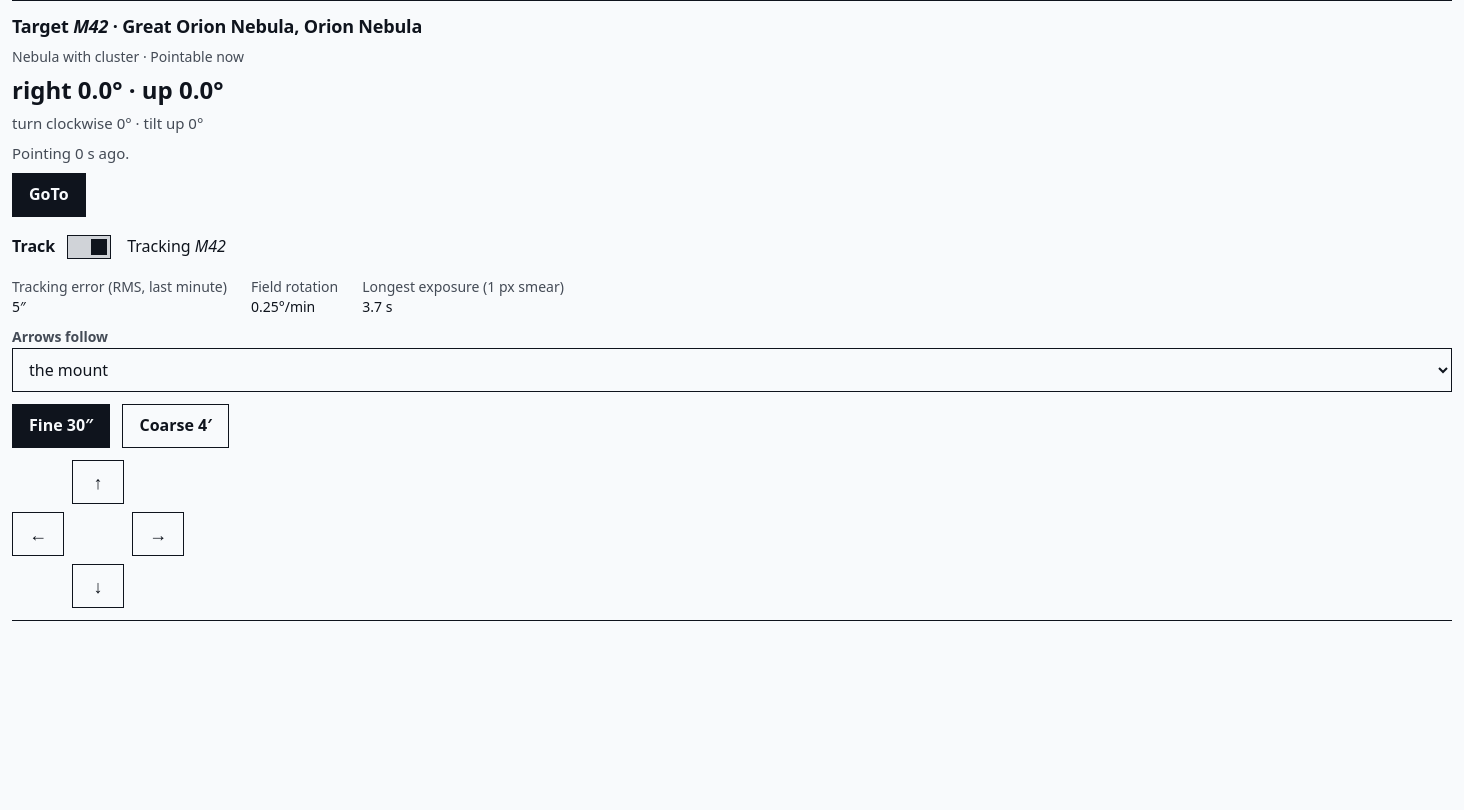
the Nudge block in the guidance block › holds every arrow until the answer, then shows the refusal in the block's alert (US5-S2)
Later steps or results of the test are not shown.
What coordinates should you click on to do the following:
click the button "↑"
I would click on:
 (98, 482)
Its box is [72, 460, 124, 504].
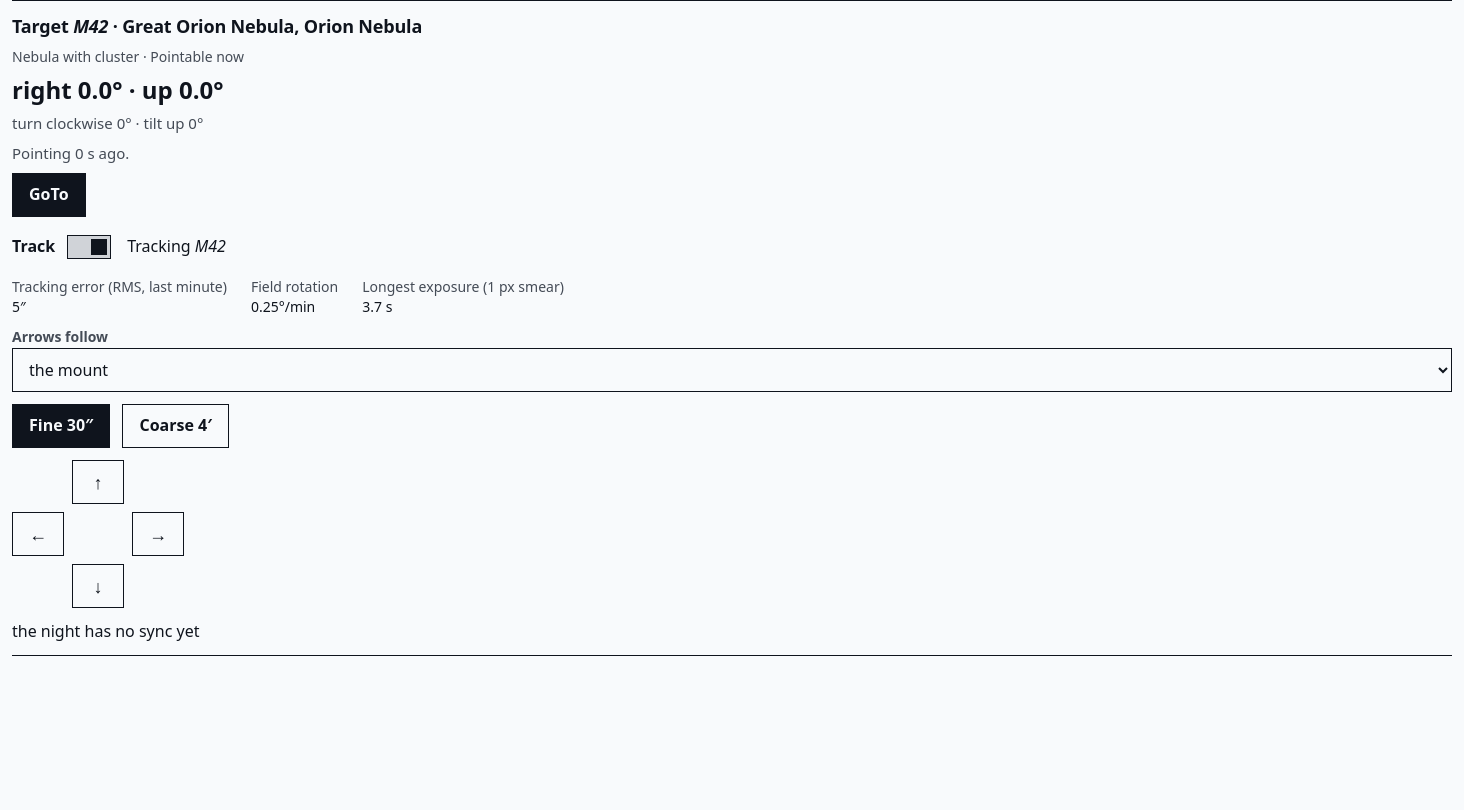
Expected: the message "the night has no sync yet" is shown, [12, 620, 200, 642]
